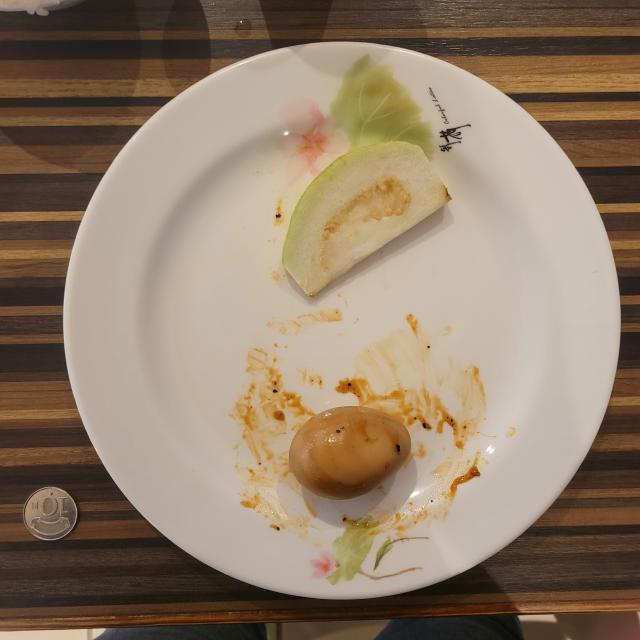coin: (22, 486, 78, 540)
guava -sliced-: (282, 141, 451, 296)
soy egg: (289, 406, 411, 500)
